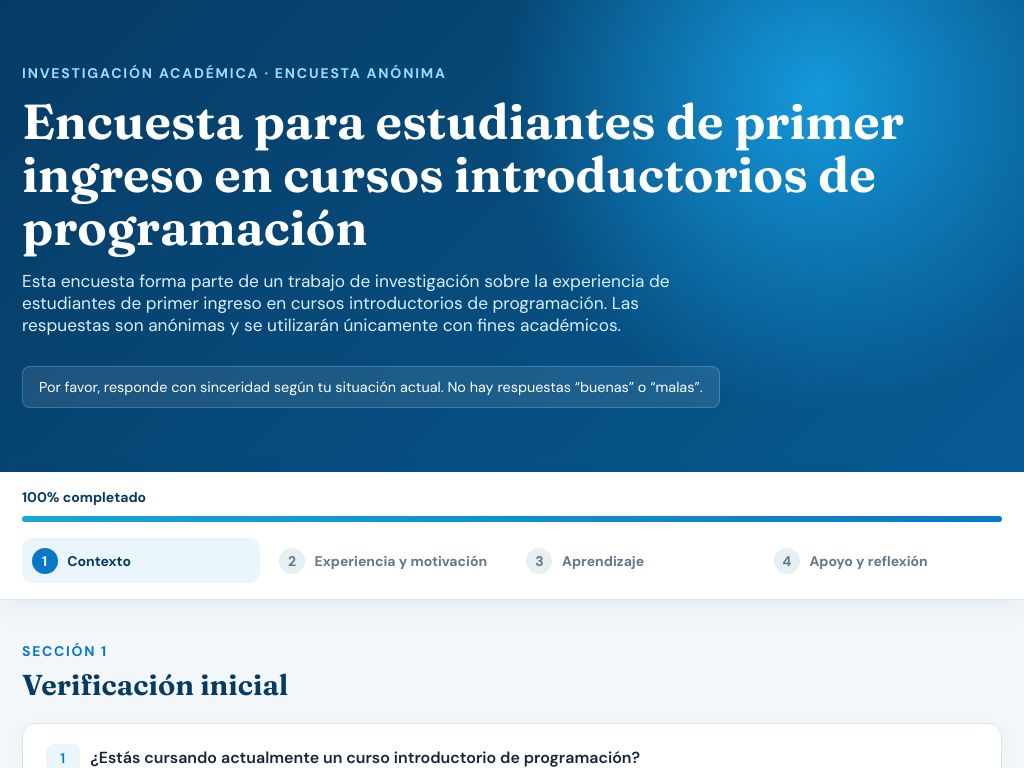
Test: survey confirmation › shows a centered thank-you message without a second-response button
This screenshot has width=1024, height=768.
Click the button "4 Apoyo y reflexión": (883, 561) x1=764 y1=538 x2=1002 y2=583
(page scrolled)
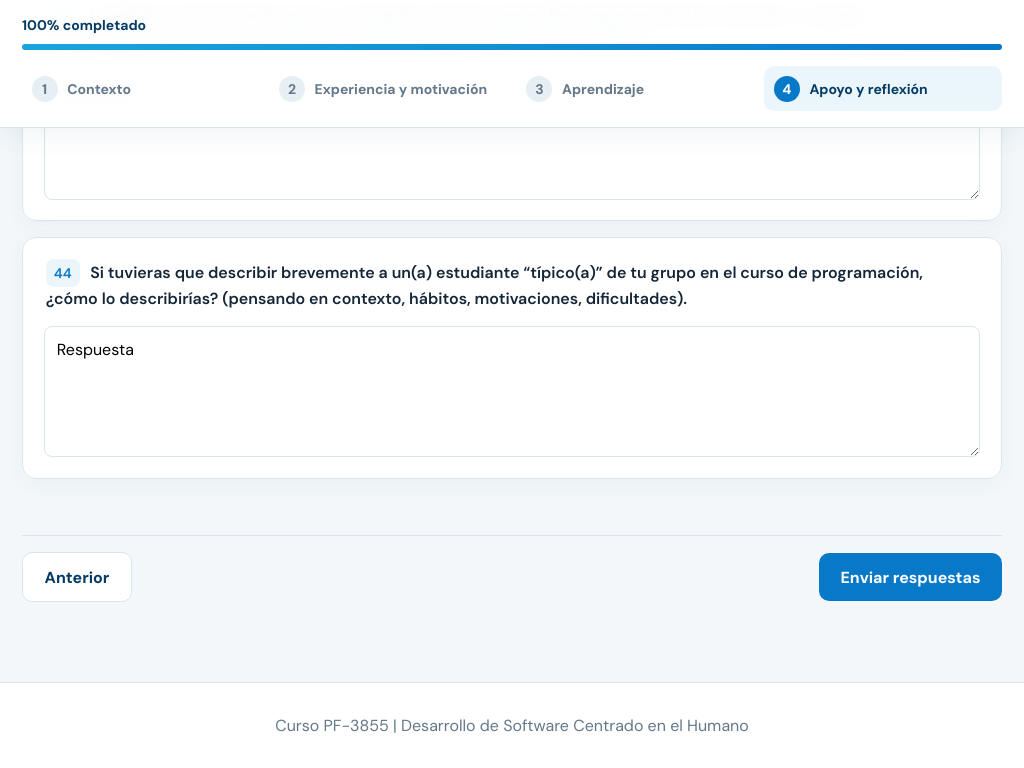
Click the button "Enviar respuestas": (910, 577) x1=819 y1=553 x2=1002 y2=602
(page scrolled)
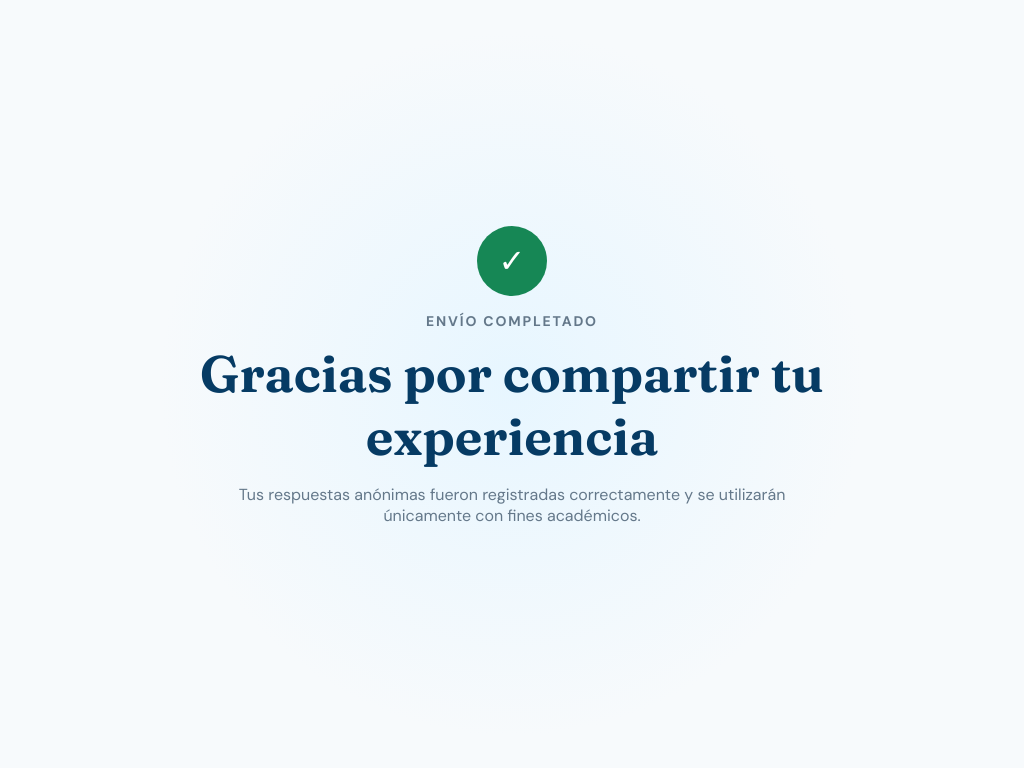
Check: the heading "Gracias por compartir tu experiencia" is shown, box x1=200 y1=342 x2=824 y2=468
